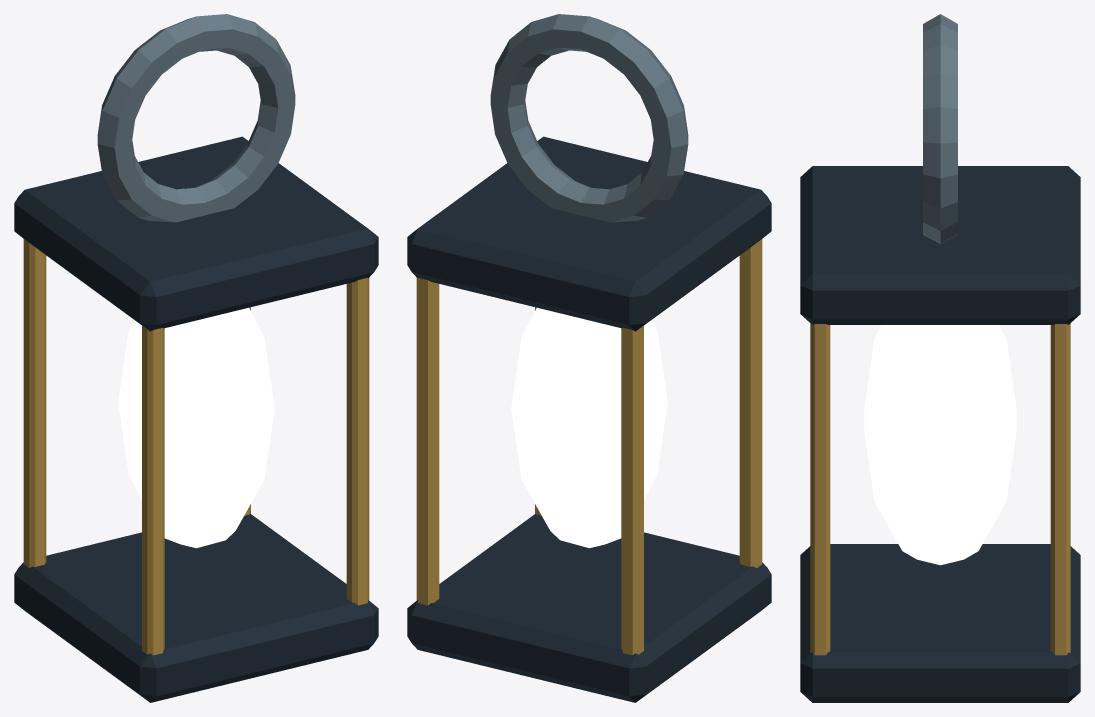
The model's file is equipment-lantern.lod0.glb.
The picture shows the model from 3 angles, left to right: view 1: azimuth 30°, elevation 25°; view 2: azimuth 150°, elevation 25°; view 3: azimuth 270°, elevation 25°; orthographic projection.
Visible parts, largest first — view 1: equipment-lantern__body; view 2: equipment-lantern__body; view 3: equipment-lantern__body.
Boxes of the visible parts, bbox=[...] form: equipment-lantern__body: bbox=[14, 14, 378, 702]; equipment-lantern__body: bbox=[407, 14, 771, 702]; equipment-lantern__body: bbox=[800, 14, 1080, 702].
Bounding box in the file's own units: 0.35 × 0.86 × 0.35.
